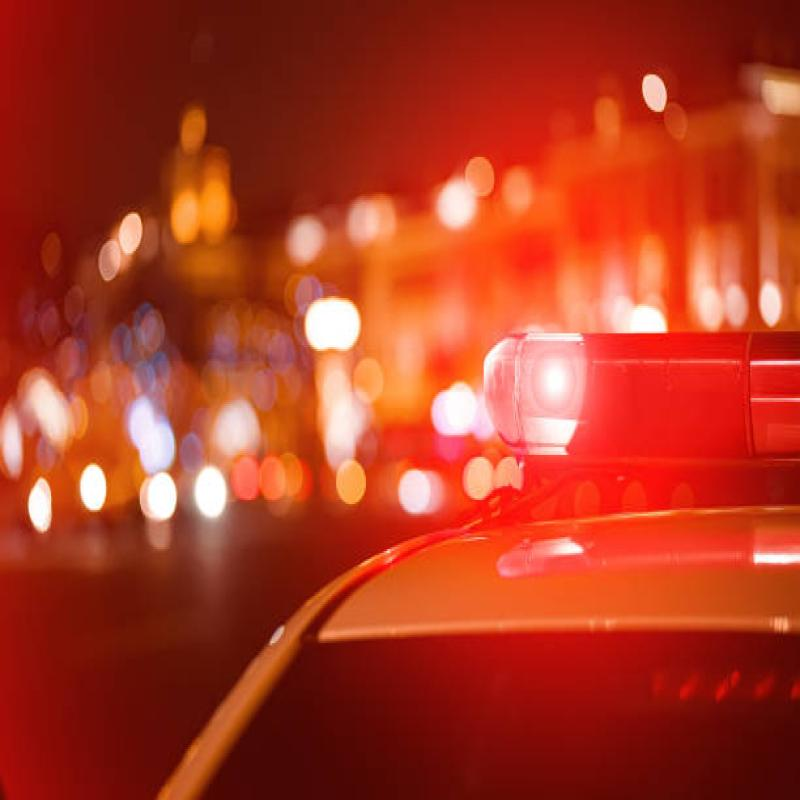AmbulanceSiren: (477, 314, 798, 473)
